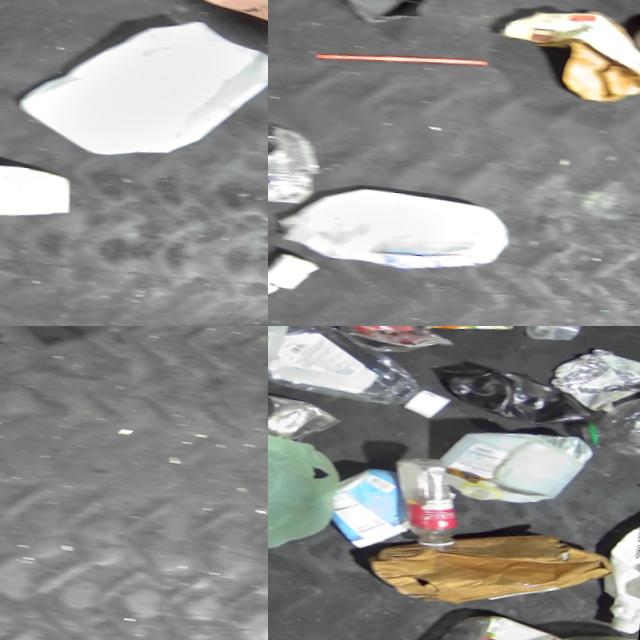can: (268, 386, 348, 449)
milk_jug: (11, 0, 268, 169), (275, 177, 519, 276), (434, 420, 594, 507)
plastic_bottle: (576, 379, 640, 457)
